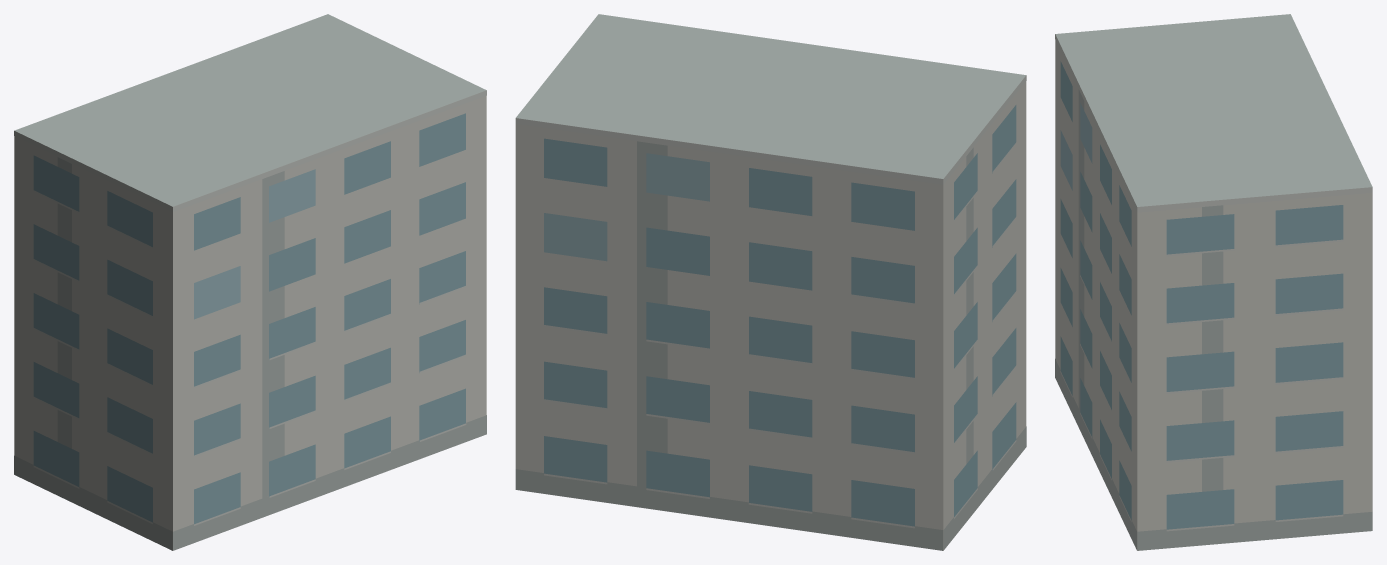
Rendered from residential-9a9b7a4c-d020-4711-b60f-9a984ac73508.glb.
3 views of the same model, side by side, from view 1: azimuth 30°, elevation 25°; view 2: azimuth 150°, elevation 25°; view 3: azimuth 270°, elevation 25° (orthographic). The views are drawn at different scales.
Parts seen in each view (by area): view 1: residential-9a9b7a4c-d020-4711-b60f-9a984ac73508.tmp; view 2: residential-9a9b7a4c-d020-4711-b60f-9a984ac73508.tmp; view 3: residential-9a9b7a4c-d020-4711-b60f-9a984ac73508.tmp.
Boxes of the visible parts, x1=… form: residential-9a9b7a4c-d020-4711-b60f-9a984ac73508.tmp: x1=14, y1=14, x2=486, y2=550; residential-9a9b7a4c-d020-4711-b60f-9a984ac73508.tmp: x1=515, y1=14, x2=1026, y2=550; residential-9a9b7a4c-d020-4711-b60f-9a984ac73508.tmp: x1=1055, y1=14, x2=1372, y2=550.
Size of the model in its own units: 18.37 by 15.25 by 12.77.
